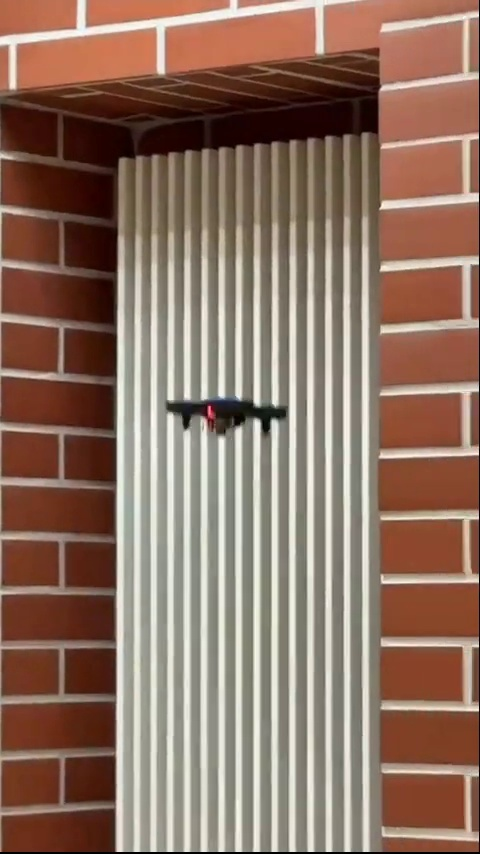drone: (166, 393, 289, 439)
